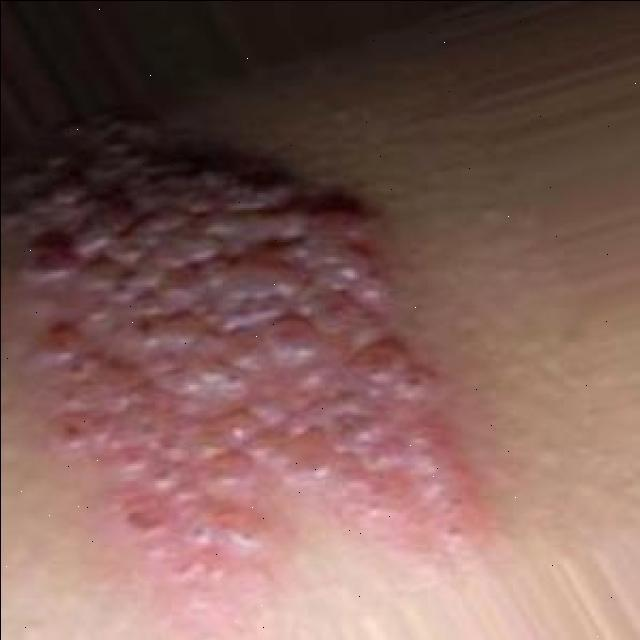Shingles: (6, 112, 496, 630)
